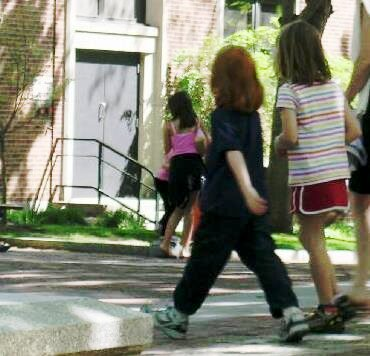person: (149, 40, 306, 337), (269, 19, 355, 335)
